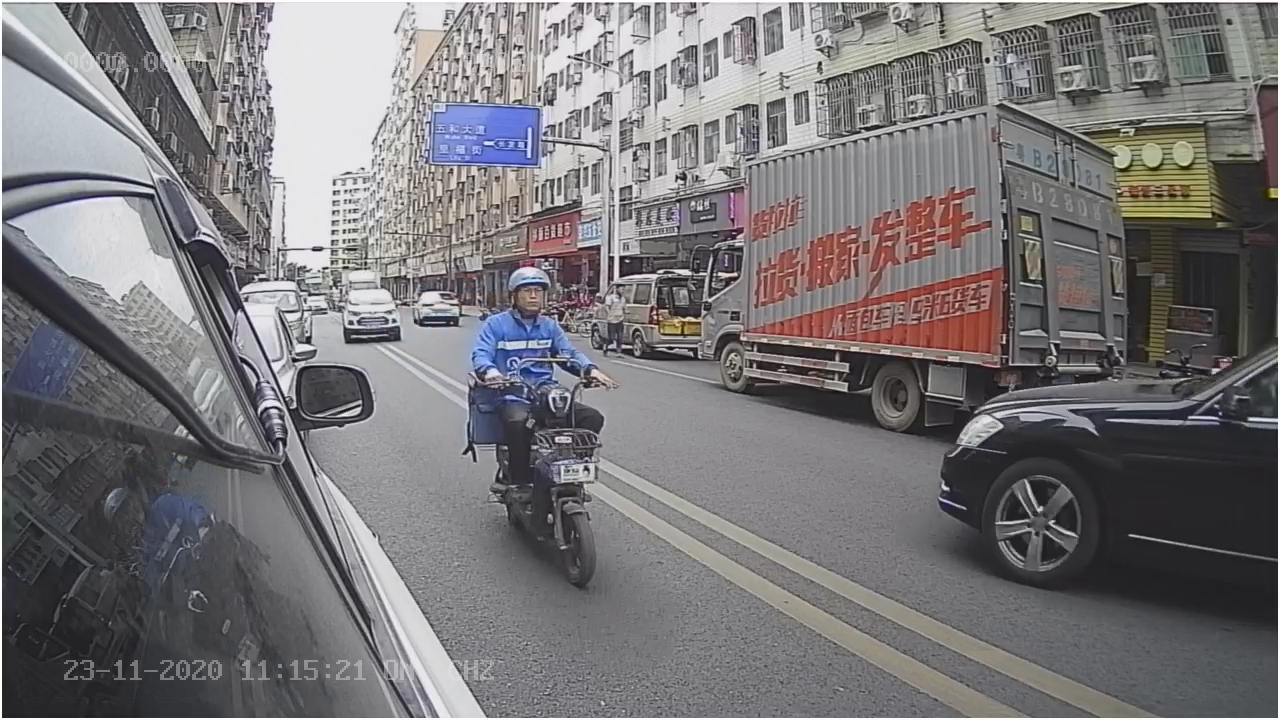person: (463, 259, 625, 383)
